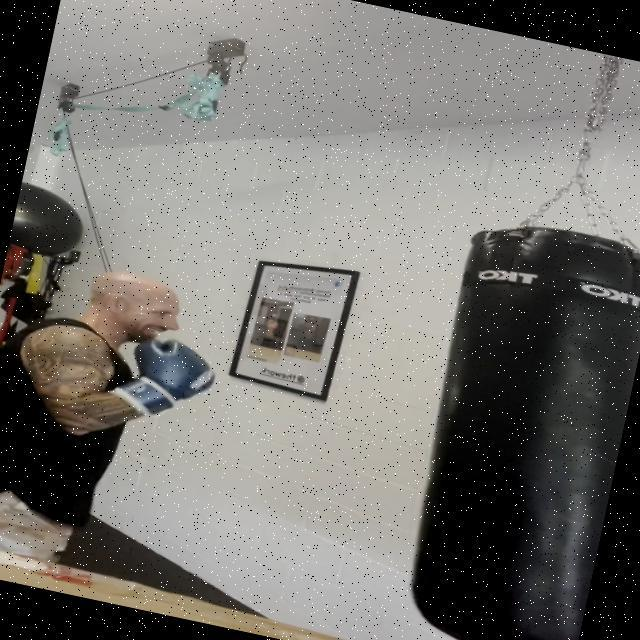bag: (352, 200, 640, 640)
no punch: (0, 241, 249, 467)
